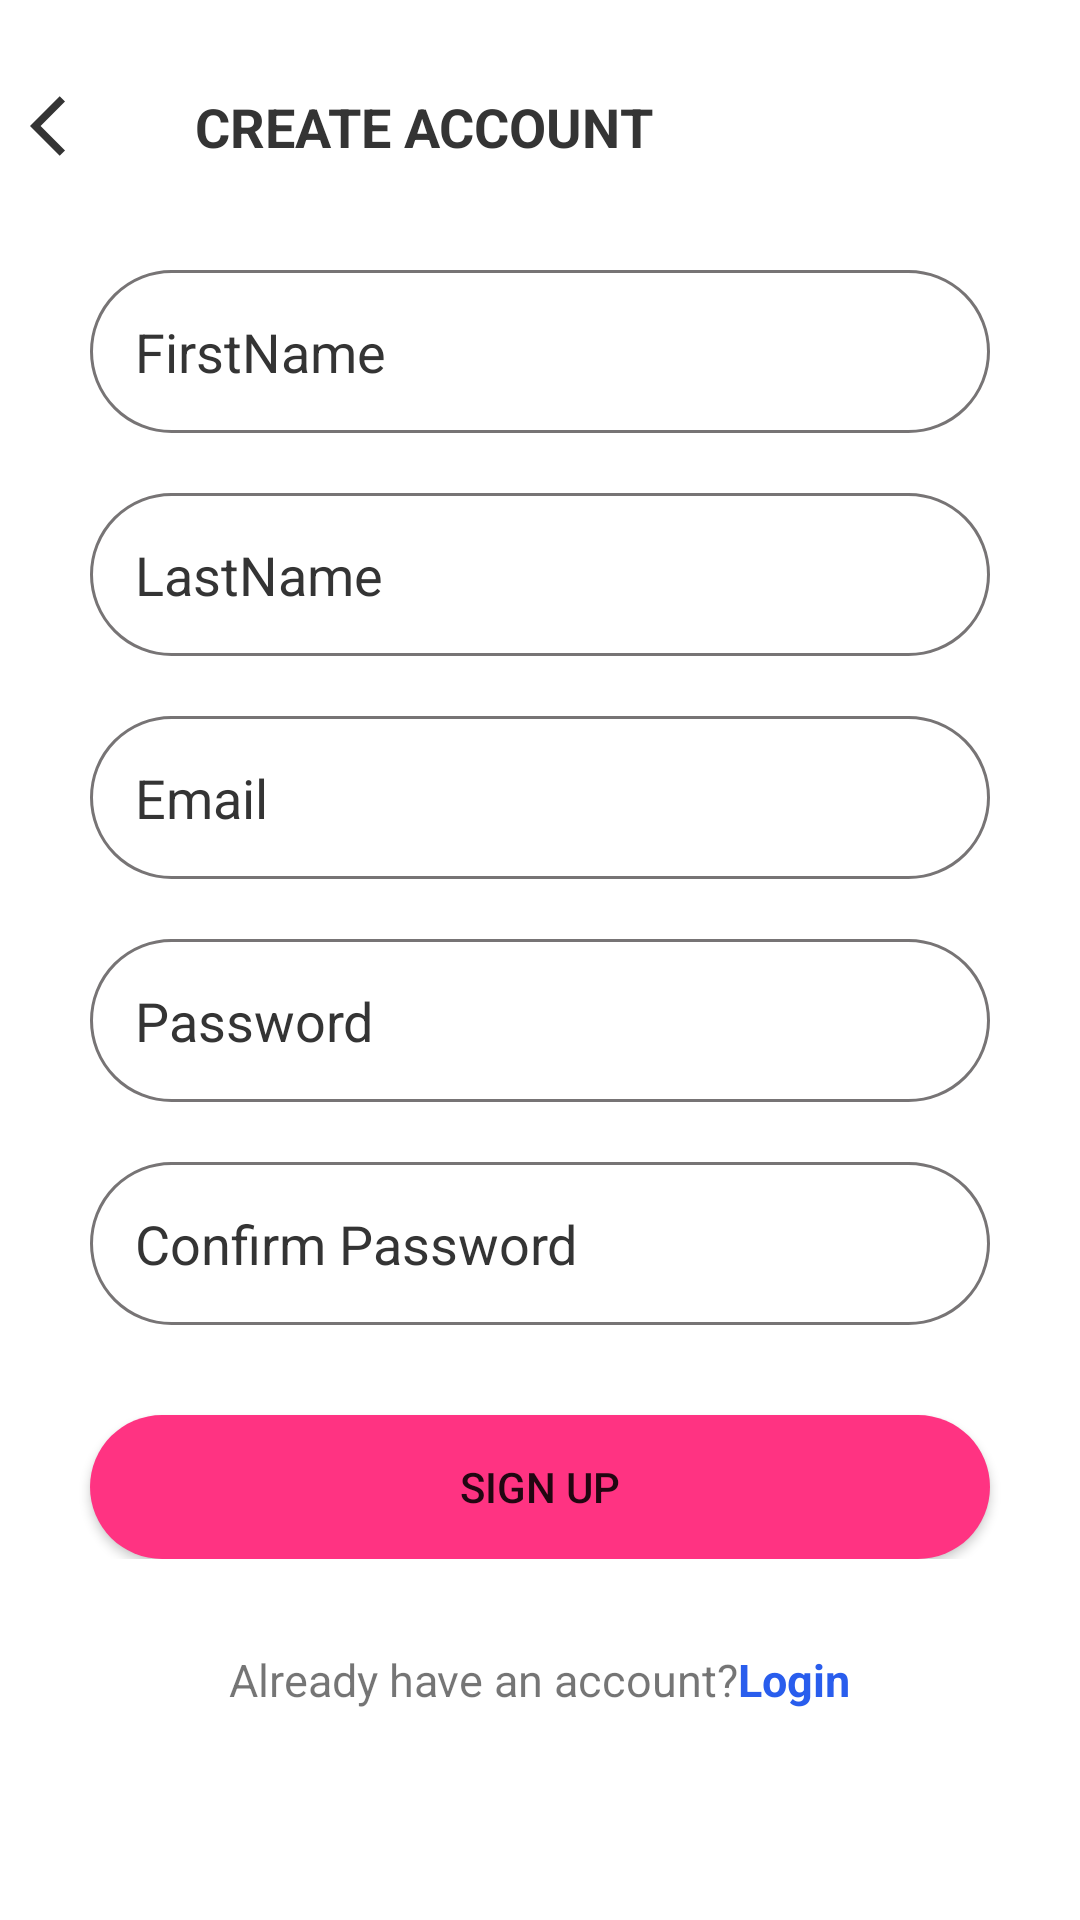

Icon bounding boxes for this 1080px×1920px phone screenshot, format (x1, y1, x2, y2):
arrow back: (30, 96, 65, 156)
